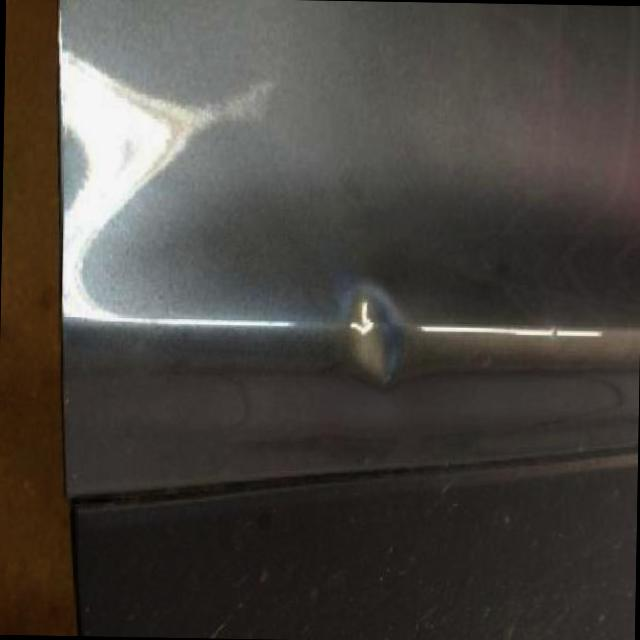dent: (338, 279, 406, 383)
